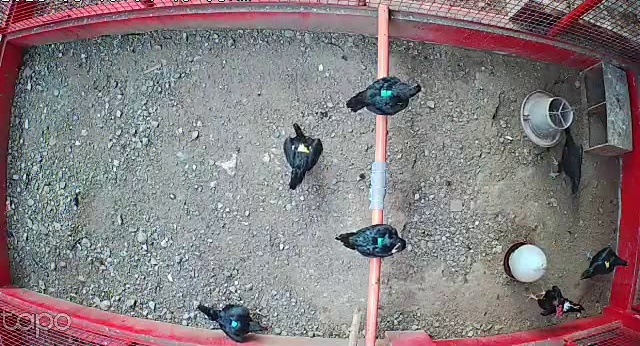Chicken: (343, 76, 425, 120), (195, 297, 271, 343), (547, 119, 585, 199), (336, 221, 407, 263), (281, 122, 323, 191), (578, 243, 631, 283)
Rooster: (521, 283, 588, 321)
Saddle_Color_Blue: (231, 318, 239, 328)
Saddle_Color_Yellow: (291, 139, 313, 153)
